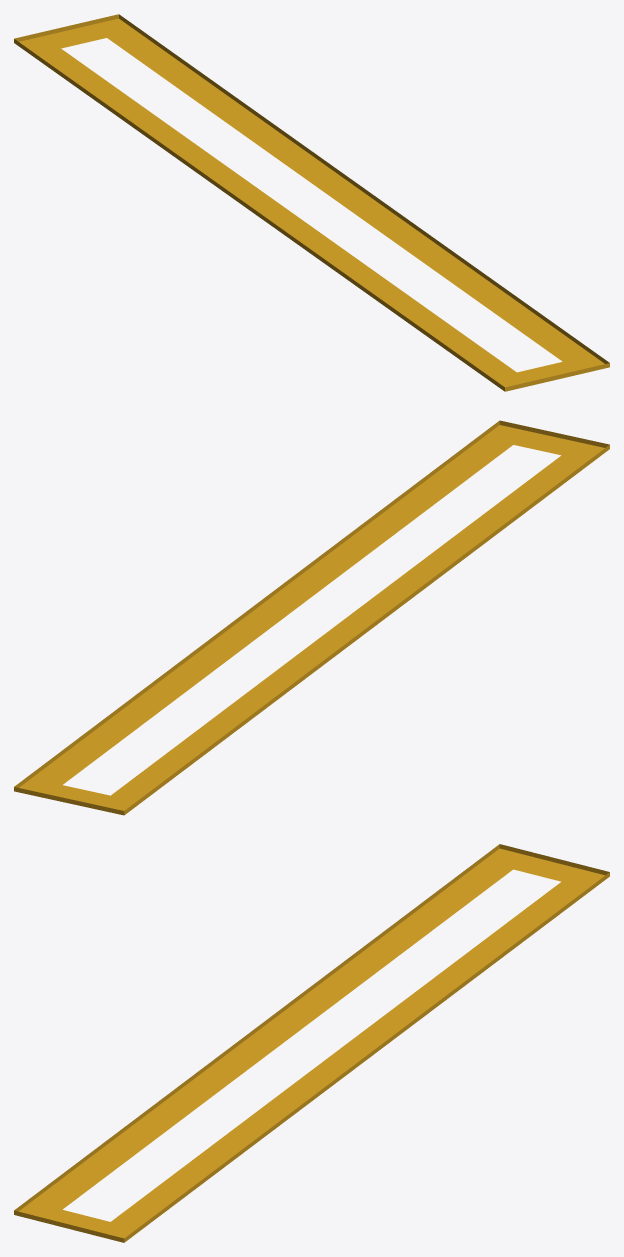
File: original-14.obj
The picture shows the model from 3 angles, top to bottom: view 1: azimuth 30°, elevation 25°; view 2: azimuth 150°, elevation 25°; view 3: azimuth 330°, elevation 25°; orthographic projection. The views are drawn at different scales.
Parts seen in each view (by area): view 1: #ID60; view 2: #ID60; view 3: #ID60.
Part boxes in pixels (x1,y1,x2,y2): #ID60: (14, 14, 609, 391); #ID60: (14, 420, 609, 815); #ID60: (14, 844, 609, 1242).
Size of the model in its own units: 0.0282 by 0.00145 by 0.2016.
